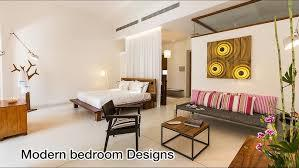bed: (70, 77, 158, 122)
chair: (101, 100, 149, 152)
light: (8, 31, 42, 63), (282, 33, 299, 52), (96, 68, 110, 89), (113, 36, 127, 53), (163, 34, 171, 60)
sofa: (172, 89, 277, 135)
table: (220, 134, 299, 168), (160, 115, 212, 155), (0, 95, 31, 139)
